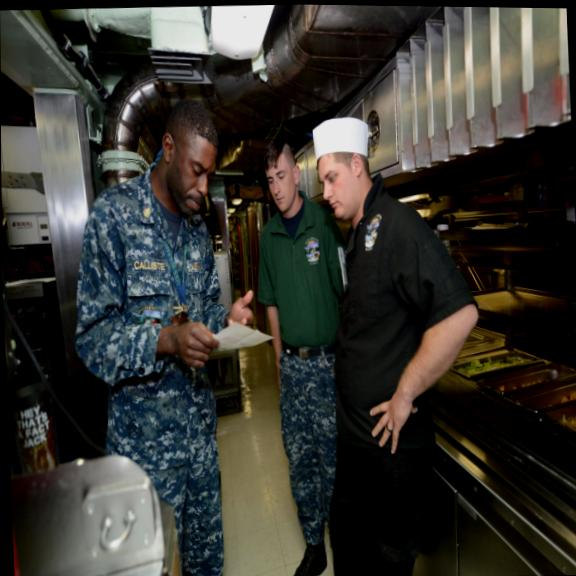no_safety_vest: (83, 172, 227, 392), (317, 173, 448, 411), (254, 192, 347, 369)
